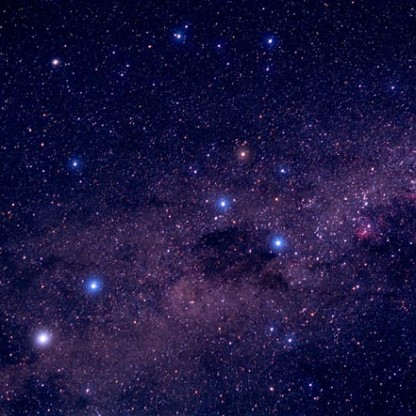Southern Cross: (269, 233, 292, 251), (210, 194, 230, 213), (236, 145, 251, 162), (277, 164, 291, 177)
